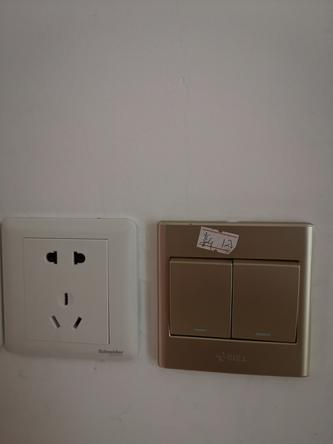switch: (227, 256, 304, 349), (165, 254, 234, 342)
